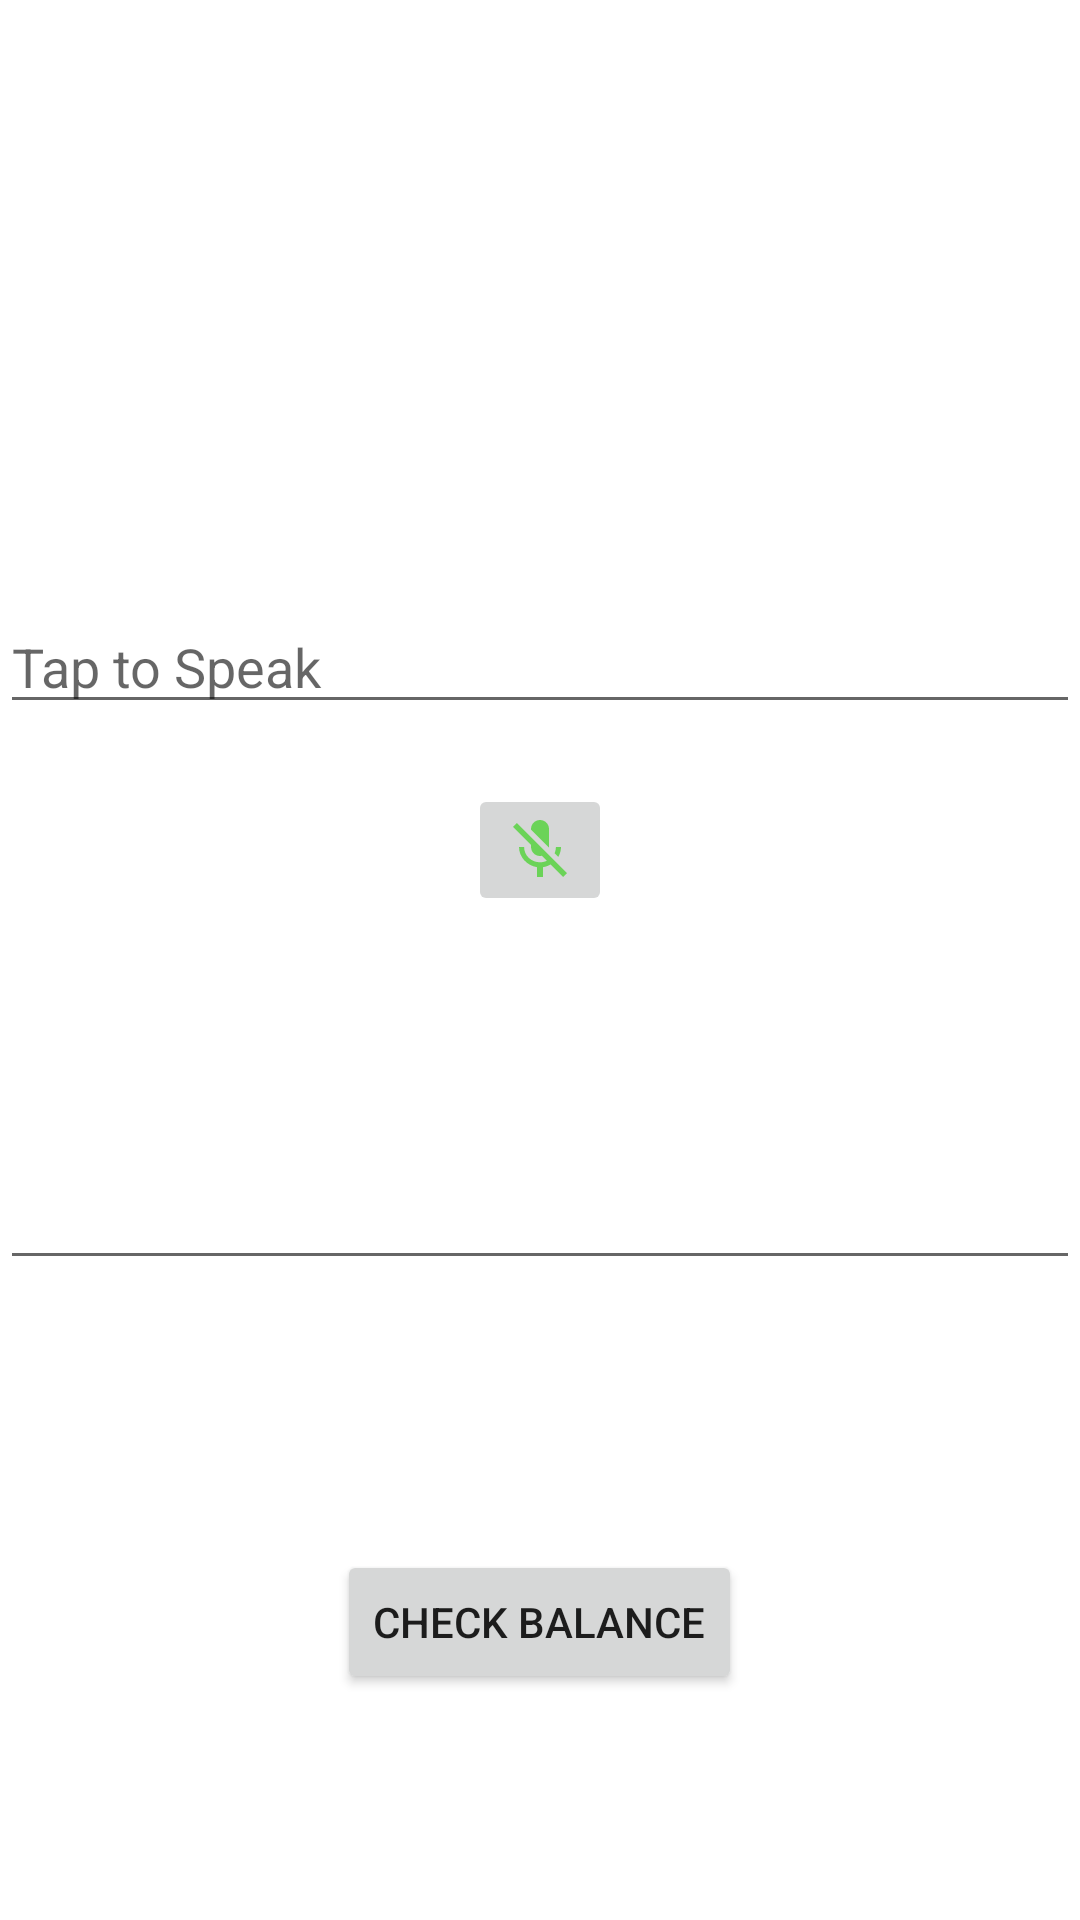

Locate icon controls on the screen. Image size 1080px x 1920px, boxes as (x1, y1, x2, y2).
mic off: (480, 802, 600, 898)
